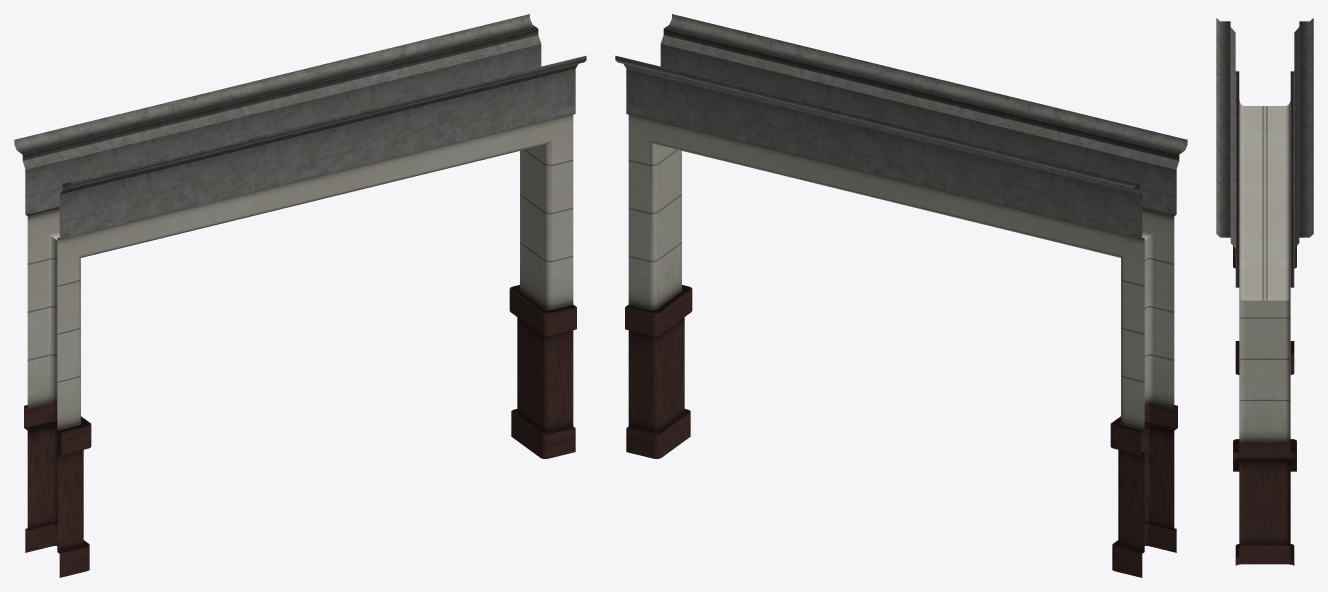
File: Wall 6 Gate 2.fbx
3 renders of one model, left to right at view 1: azimuth 30°, elevation 25°; view 2: azimuth 150°, elevation 25°; view 3: azimuth 270°, elevation 25°, orthographic. The views are drawn at different scales.
Parts seen in each view (by area): view 1: Wall_6_Gate_2; view 2: Wall_6_Gate_2; view 3: Wall_6_Gate_2.
Boxes of the visible parts, bbox=[...] form: Wall_6_Gate_2: bbox=[14, 14, 586, 577]; Wall_6_Gate_2: bbox=[615, 14, 1187, 577]; Wall_6_Gate_2: bbox=[1216, 18, 1313, 565].
Bounding box in the file's own units: 400 × 300 × 76.24.
